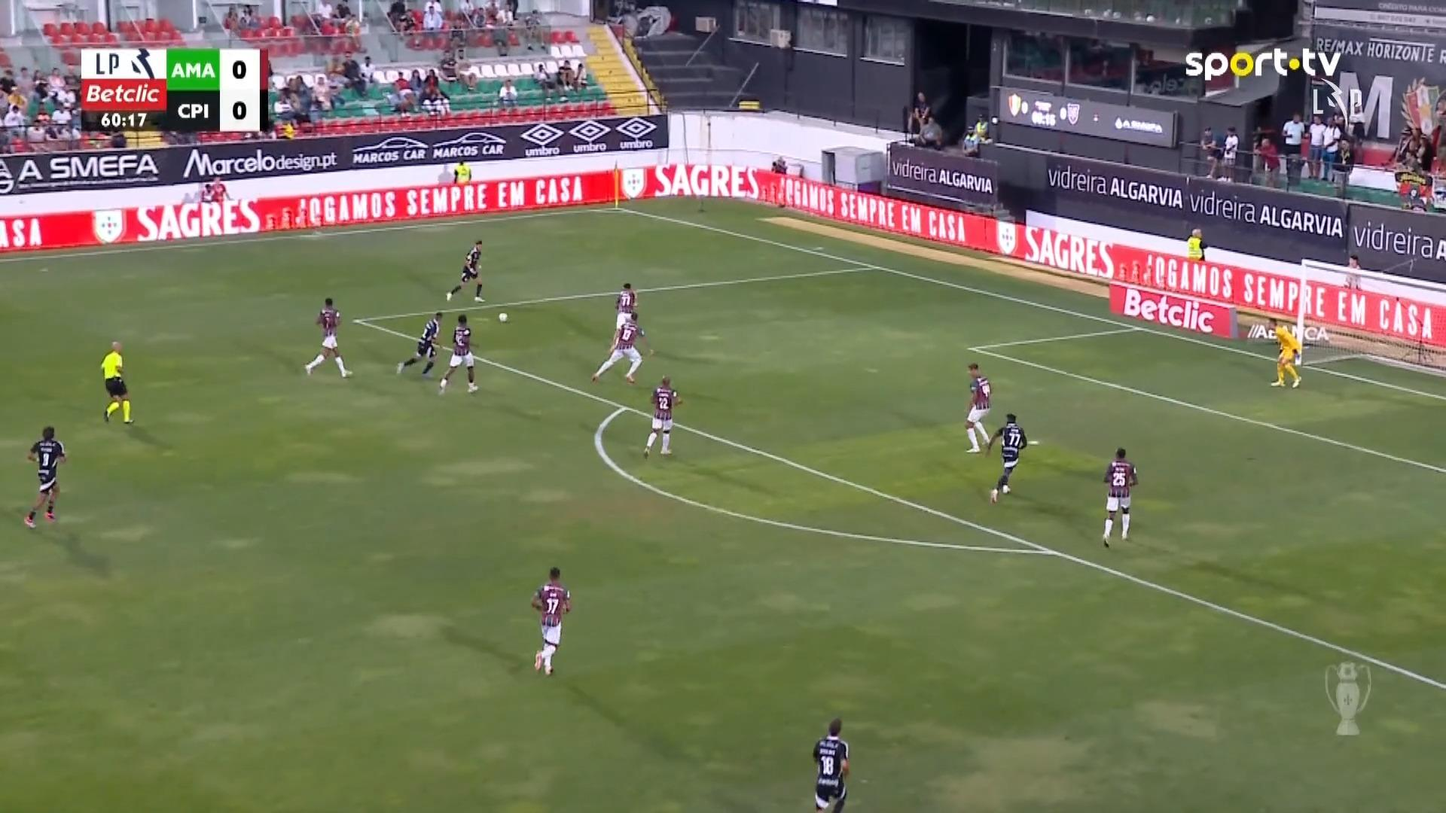ball: (497, 312, 507, 322)
goalkeeper: (1265, 318, 1302, 388)
player: (529, 566, 571, 676), (590, 312, 654, 384), (23, 425, 67, 528), (984, 412, 1027, 504), (304, 297, 352, 378), (1100, 446, 1138, 547), (812, 717, 850, 811), (438, 314, 479, 395), (642, 375, 682, 458), (395, 310, 443, 376), (963, 361, 992, 452), (445, 239, 486, 303), (614, 281, 638, 332)
referee: (99, 340, 135, 425)
